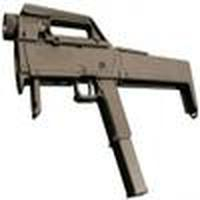gun: (2, 6, 200, 147)
